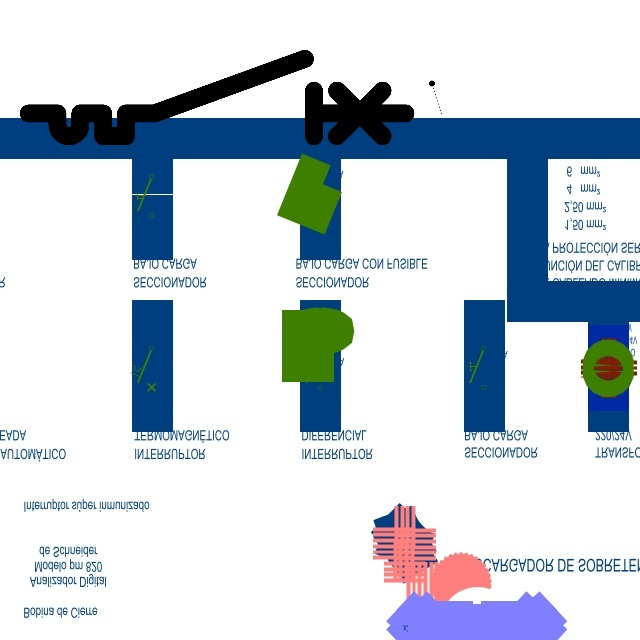interruptor_termomagnetico: (19, 49, 415, 146)
